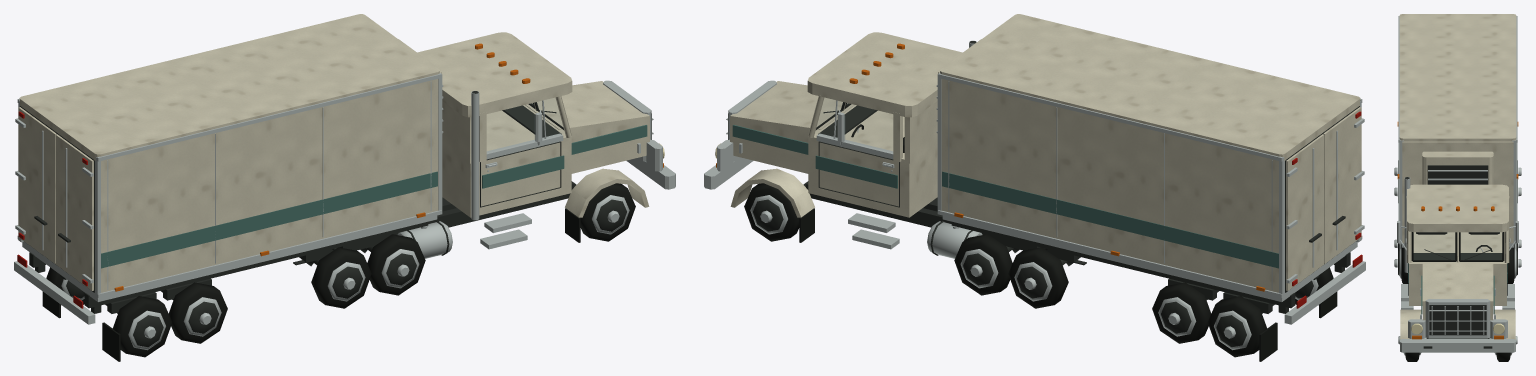
The model's file is SM_Mesa_Truck_LOD2.fbx.
The picture shows the model from 3 angles, left to right: view 1: azimuth 30°, elevation 25°; view 2: azimuth 150°, elevation 25°; view 3: azimuth 270°, elevation 25°; orthographic projection. The views are drawn at different scales.
Visible parts, largest first — view 1: SM_Mesa_Truck_LOD2; view 2: SM_Mesa_Truck_LOD2; view 3: SM_Mesa_Truck_LOD2.
Part boxes in pixels (<box>): SM_Mesa_Truck_LOD2: <box>14,14,675,361</box>; SM_Mesa_Truck_LOD2: <box>704,14,1365,361</box>; SM_Mesa_Truck_LOD2: <box>1394,14,1521,361</box>.
Bounding box in the file's own units: 10.93 × 2.77 × 3.85.
